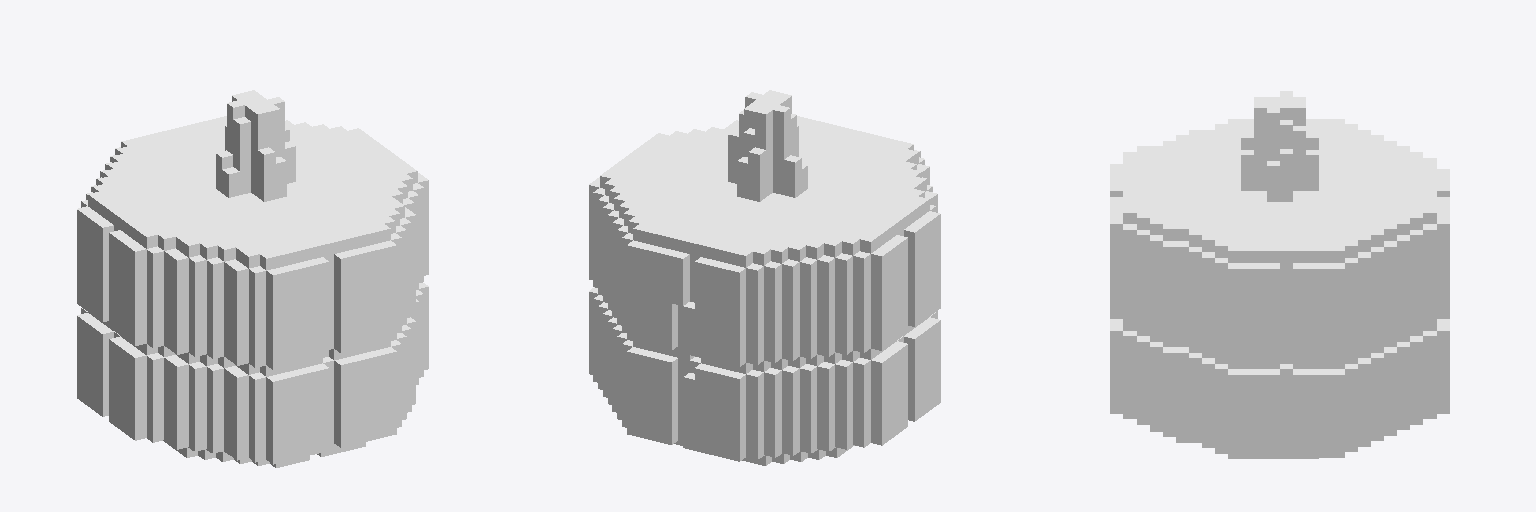
The model's file is Pumkin.obj.
The picture shows the model from 3 angles: view 1: azimuth 30°, elevation 25°; view 2: azimuth 150°, elevation 25°; view 3: azimuth 270°, elevation 25°; orthographic projection.
Visible parts, largest first — view 1: object 1; view 2: object 1; view 3: object 1.
Part boxes in pixels (left/top/right/bottom): object 1: left=77, top=90, right=428, bottom=467; object 1: left=589, top=90, right=940, bottom=465; object 1: left=1110, top=91, right=1449, bottom=458.
Size of the model in its own units: 2.6 by 2.6 by 2.6.